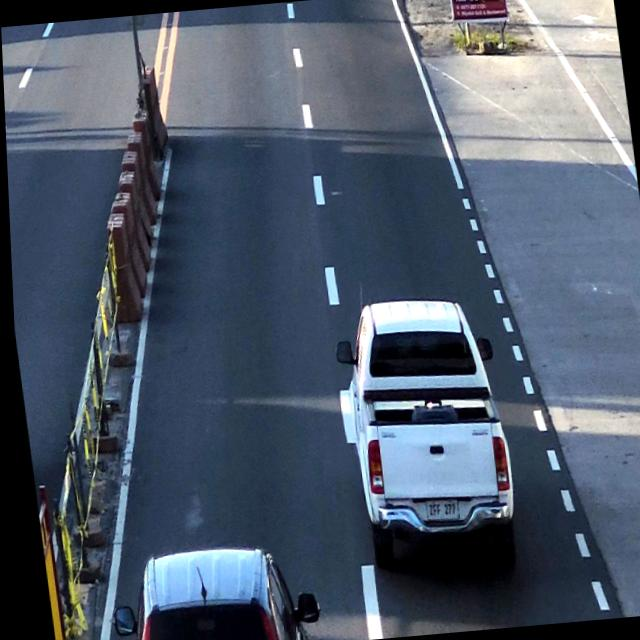Car: (336, 294, 513, 572), (117, 539, 294, 640)
License-Plate: (421, 495, 459, 526)
